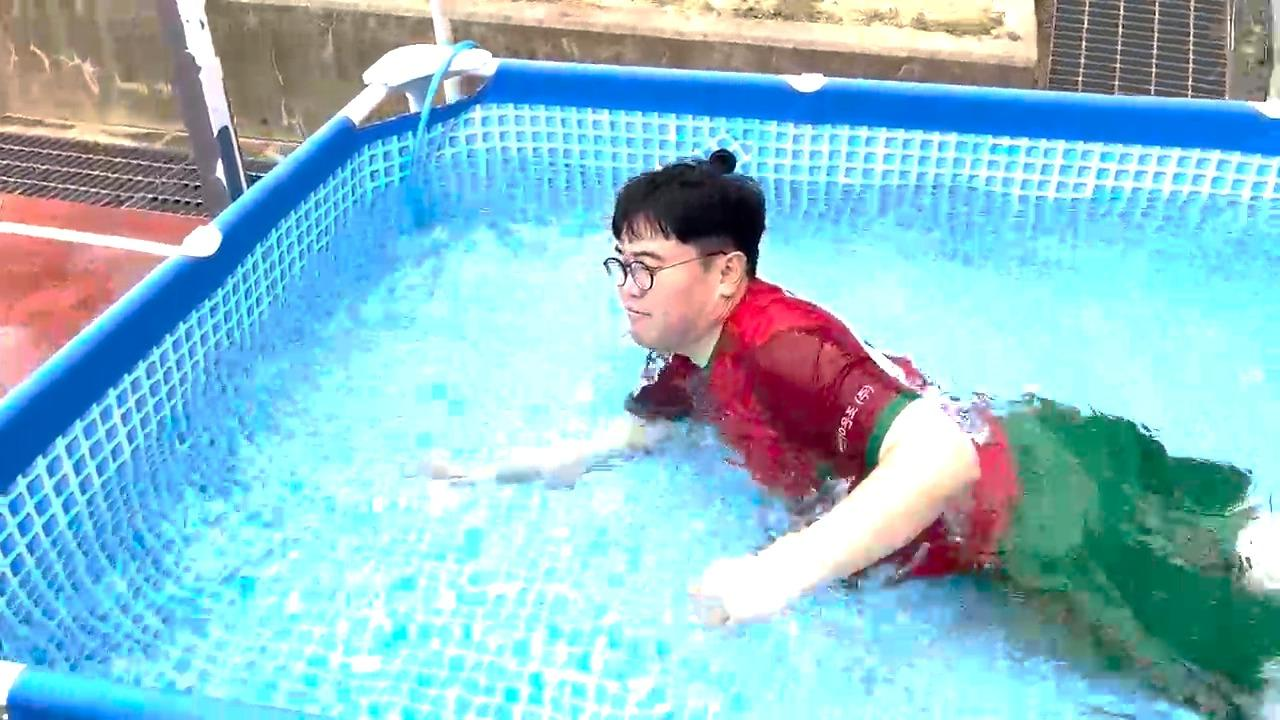Swimming: (408, 149, 1280, 720)
